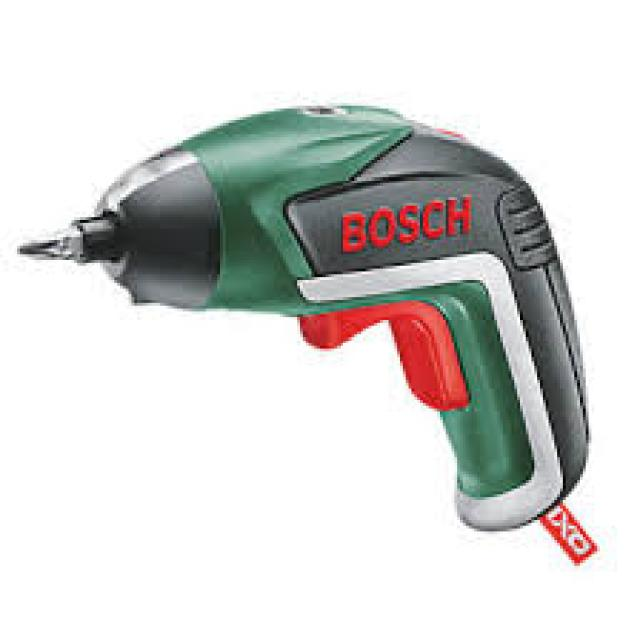driller: (17, 100, 594, 560)
